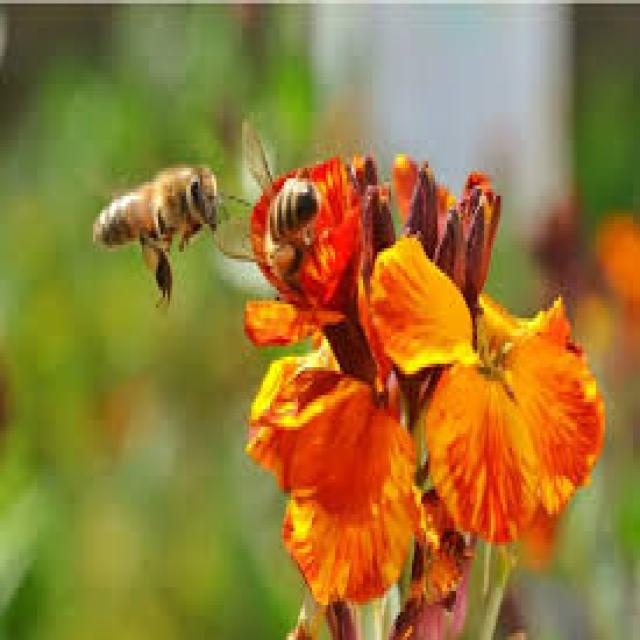Bees: (94, 163, 222, 310), (220, 117, 318, 282)
